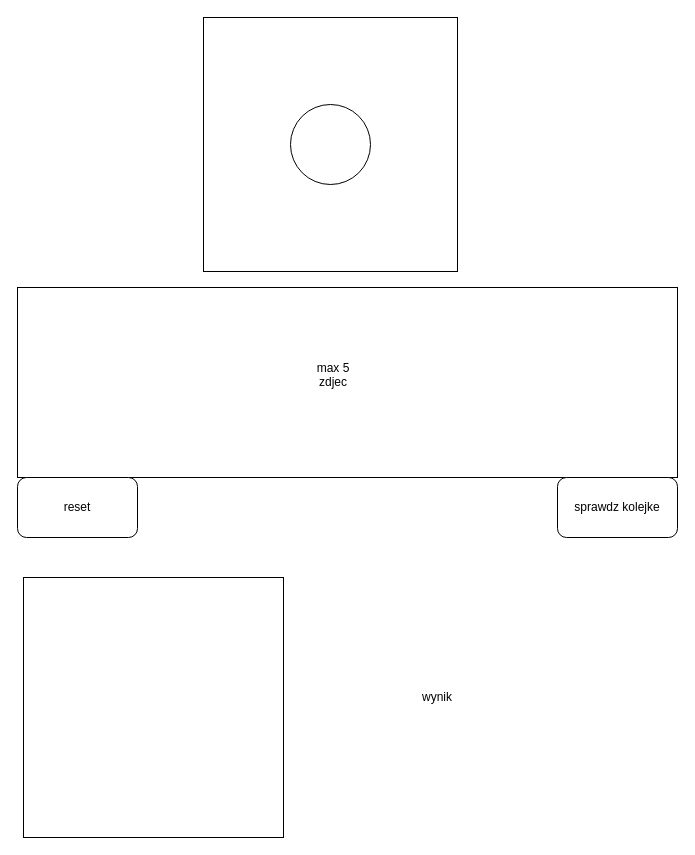
Image size: 695x855. Some labels were removed from this diagram. The shapes that lost their labels are listed below. From the top down, each one's centre as x and y in pixels, then its label:
(x=330, y=144): ładowanie gdy sprawdza
(x=153, y=707): zdjecie[i]
